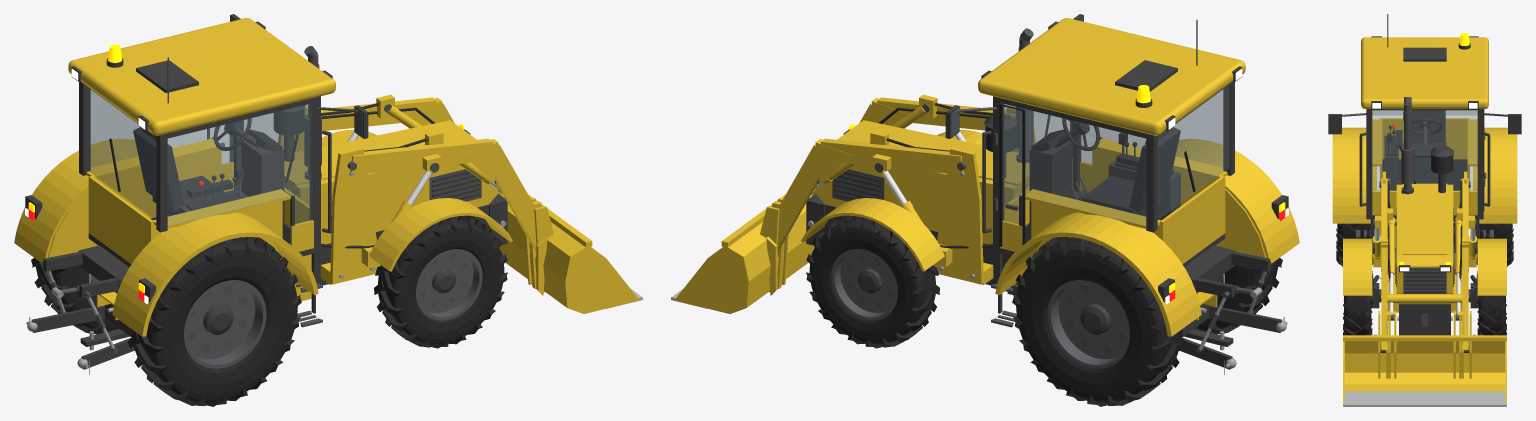
Rendered from utility_tractor.glb.
The picture shows the model from 3 angles, left to right: view 1: azimuth 30°, elevation 25°; view 2: azimuth 150°, elevation 25°; view 3: azimuth 270°, elevation 25°; orthographic projection. The views are drawn at different scales.
Visible parts, largest first — view 1: cab, chassis, wheel_rear_right_spin, wheel_front_right_spin, loader_arm_tilt, bucket_tilt, front_loader, wheel_front_right_steer, wheel_rear_left_spin, hitch_tilt, hitch_lift_arm_tilt; view 2: cab, chassis, wheel_rear_left_spin, wheel_front_left_spin, loader_arm_tilt, bucket_tilt, front_loader, wheel_front_left_steer, wheel_rear_right_spin, hitch_tilt, hitch_lift_arm_tilt; view 3: cab, chassis, bucket_tilt, loader_arm_tilt, wheel_front_right_steer, wheel_front_left_steer, wheel_front_right_spin, wheel_front_left_spin, front_loader, wheel_rear_right_spin, wheel_rear_left_spin, loader_bucket_cylinder_right_rotate (+3 smaller).
Boxes of the visible parts, bbox=[...] form: cab: bbox=[68, 14, 368, 327]; chassis: bbox=[14, 46, 507, 350]; wheel_rear_right_spin: bbox=[127, 237, 301, 406]; wheel_front_right_spin: bbox=[374, 215, 507, 348]; loader_arm_tilt: bbox=[302, 94, 536, 251]; bucket_tilt: bbox=[498, 192, 642, 313]; front_loader: bbox=[278, 107, 380, 284]; wheel_front_right_steer: bbox=[369, 198, 512, 271]; wheel_rear_left_spin: bbox=[31, 258, 119, 334]; hitch_tilt: bbox=[26, 305, 134, 374]; hitch_lift_arm_tilt: bbox=[43, 251, 118, 297]; cab: bbox=[945, 14, 1245, 327]; chassis: bbox=[806, 28, 1299, 350]; wheel_rear_left_spin: bbox=[1012, 237, 1186, 406]; wheel_front_left_spin: bbox=[806, 215, 939, 348]; loader_arm_tilt: bbox=[777, 94, 1015, 251]; bucket_tilt: bbox=[671, 192, 815, 313]; front_loader: bbox=[933, 107, 1035, 284]; wheel_front_left_steer: bbox=[801, 198, 944, 271]; wheel_rear_right_spin: bbox=[1194, 258, 1282, 334]; hitch_tilt: bbox=[1179, 305, 1287, 374]; hitch_lift_arm_tilt: bbox=[1195, 251, 1270, 297]; cab: bbox=[1328, 14, 1521, 263]; chassis: bbox=[1332, 97, 1517, 335]; bucket_tilt: bbox=[1343, 311, 1506, 406]; loader_arm_tilt: bbox=[1375, 178, 1474, 352]; wheel_front_right_steer: bbox=[1343, 238, 1379, 308]; wheel_front_left_steer: bbox=[1470, 238, 1506, 308]; wheel_front_right_spin: bbox=[1343, 295, 1372, 335]; wheel_front_left_spin: bbox=[1477, 295, 1506, 335]; front_loader: bbox=[1373, 171, 1476, 312]; wheel_rear_right_spin: bbox=[1336, 223, 1374, 266]; wheel_rear_left_spin: bbox=[1475, 223, 1513, 266]; loader_bucket_cylinder_right_rotate: bbox=[1387, 214, 1395, 274].
Size of the model in its own units: 5.15 by 3.05 by 2.24.
Materials: 17 (17 with a texture image).
